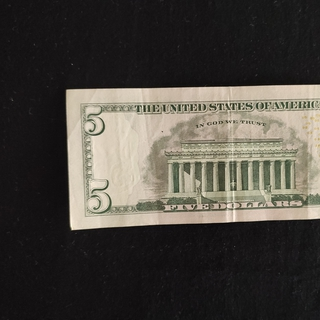5USDBack: (64, 82, 320, 231)
